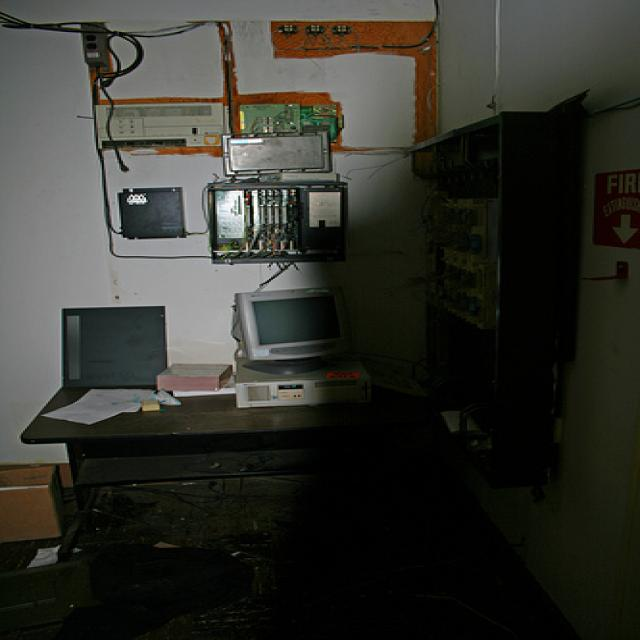Table: (41, 360, 522, 560)
